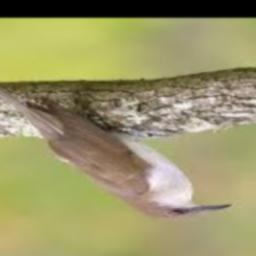Cuckoo: (0, 52, 232, 222)
